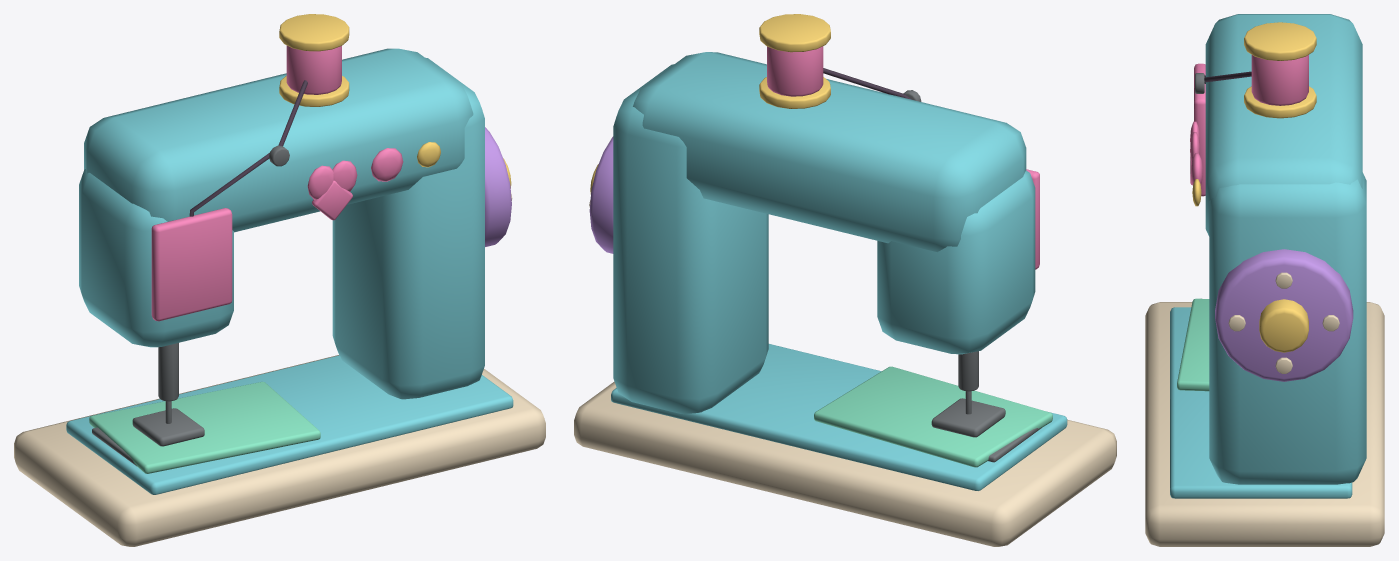
The model's file is sewing_machine.glb.
3 renders of one model, left to right at view 1: azimuth 30°, elevation 25°; view 2: azimuth 150°, elevation 25°; view 3: azimuth 270°, elevation 25°, orthographic. The views are drawn at different scales.
Visible parts, largest first — view 1: kawaii_sewing_machine; view 2: kawaii_sewing_machine; view 3: kawaii_sewing_machine.
Boxes of the visible parts, x1,y1,x2,y2 form: kawaii_sewing_machine: [14, 14, 545, 546]; kawaii_sewing_machine: [574, 14, 1116, 546]; kawaii_sewing_machine: [1145, 14, 1384, 546].
Size of what is drawn, in the model's own units: 1.21 by 1.09 by 0.5475.
Materials: 1 (1 with a texture image).
